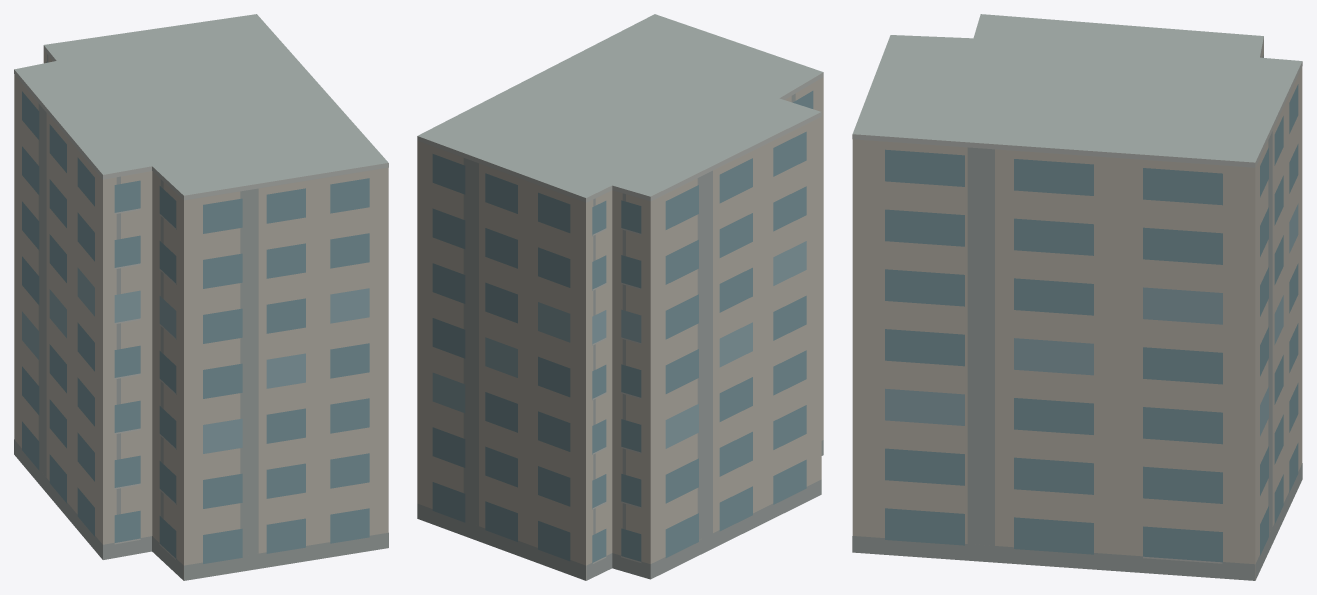
Rendered from survey-upis-33023843.glb.
3 renders of one model, left to right at view 1: azimuth 30°, elevation 25°; view 2: azimuth 150°, elevation 25°; view 3: azimuth 270°, elevation 25°, orthographic. The views are drawn at different scales.
Visible parts, largest first — view 1: survey-upis-33023843.tmp; view 2: survey-upis-33023843.tmp; view 3: survey-upis-33023843.tmp.
Boxes of the visible parts, x1,y1,x2,y2 form: survey-upis-33023843.tmp: (14,14,388,580); survey-upis-33023843.tmp: (417,14,823,580); survey-upis-33023843.tmp: (852,14,1302,580).
Bounding box in the file's own units: 15.17 × 19.9 × 19.41.
